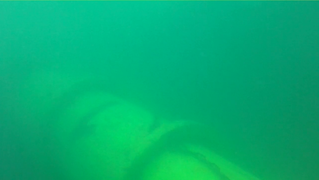1: (67, 98, 122, 144)
pipe: (18, 35, 261, 179)
